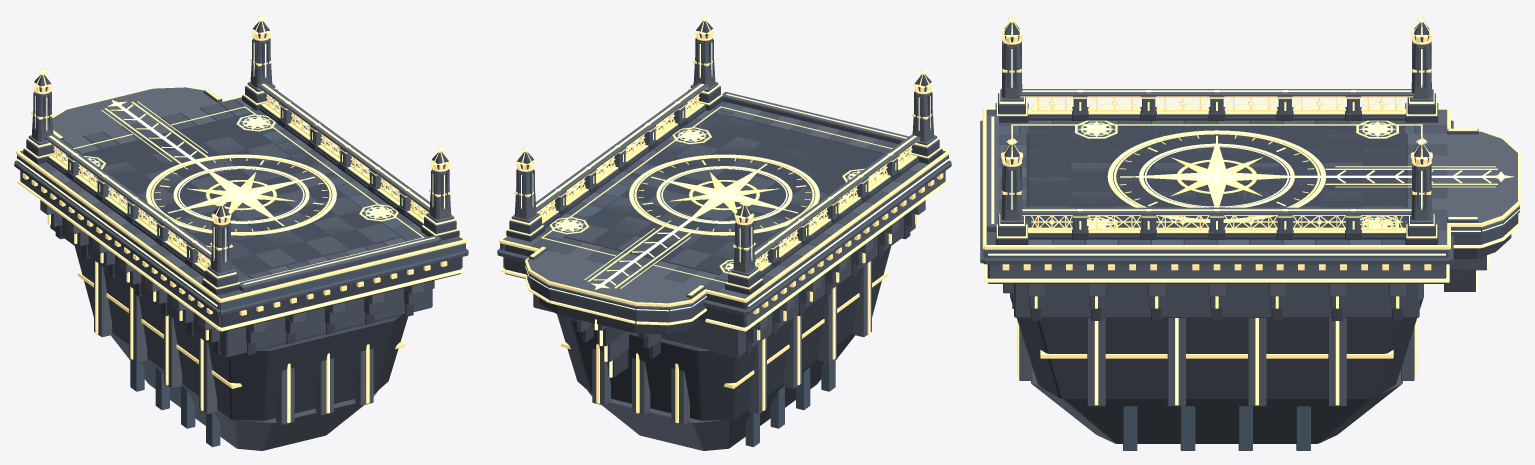
Rendered from monolith_plaza.glb.
3 views of the same model, side by side, from view 1: azimuth 30°, elevation 25°; view 2: azimuth 150°, elevation 25°; view 3: azimuth 270°, elevation 25° (orthographic). The views are drawn at different scales.
Visible parts, largest first — view 1: MonolithPlaza; view 2: MonolithPlaza; view 3: MonolithPlaza.
Part boxes in pixels (box(x1,y1,x2,y2)): MonolithPlaza: box(14, 14, 468, 450); MonolithPlaza: box(497, 14, 951, 450); MonolithPlaza: box(980, 14, 1520, 450).
Bounding box in the file's own units: 16.56 × 19.6 × 26.9.
